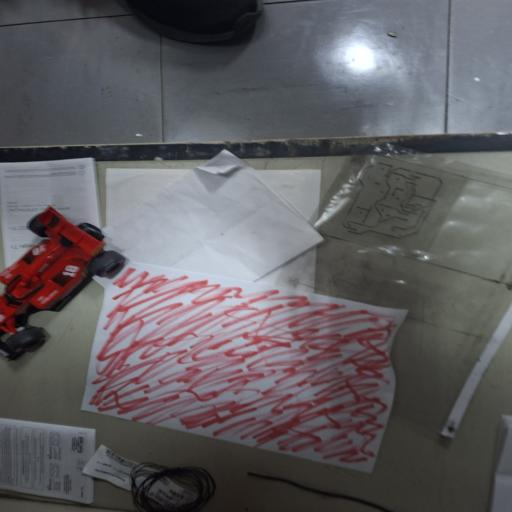carro: (0, 207, 125, 359)
